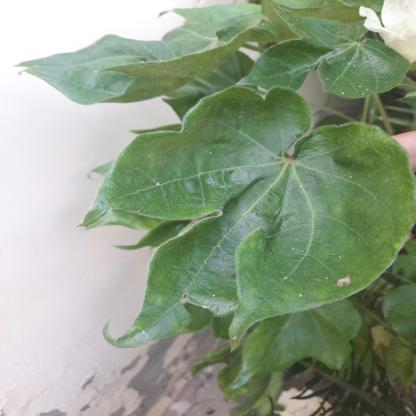curl_stage1: (335, 176, 413, 250), (271, 279, 367, 309), (159, 188, 234, 219), (327, 130, 389, 164), (305, 352, 349, 372), (232, 232, 266, 254), (142, 289, 172, 310)
curl_stage2: (129, 53, 207, 95)
healthy: (59, 46, 111, 92), (270, 185, 326, 227), (332, 53, 388, 85), (186, 268, 233, 304)
